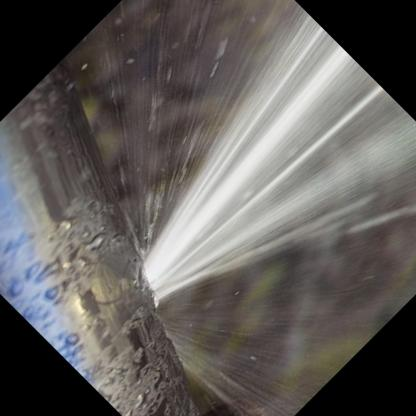burst: (127, 208, 193, 343)
